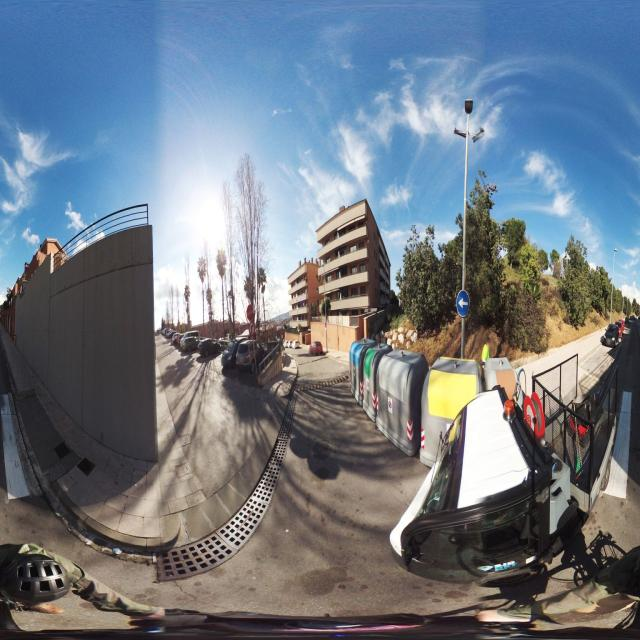car: (238, 337, 264, 373), (179, 331, 202, 354), (601, 323, 622, 348), (196, 336, 222, 356), (309, 339, 325, 356), (291, 339, 300, 349)
